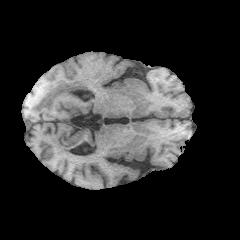glioma: (29, 78, 88, 113)
